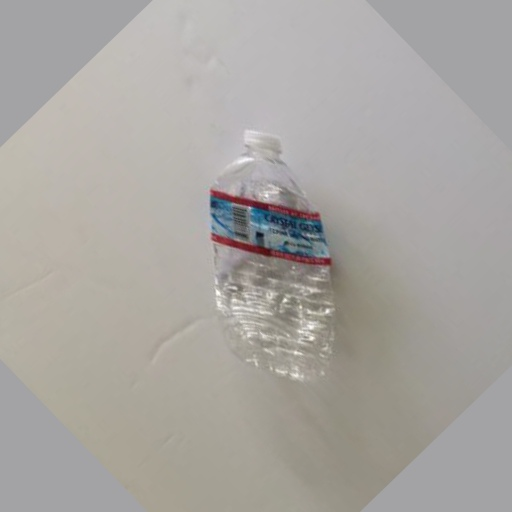Plastic_0: (208, 127, 339, 383)
